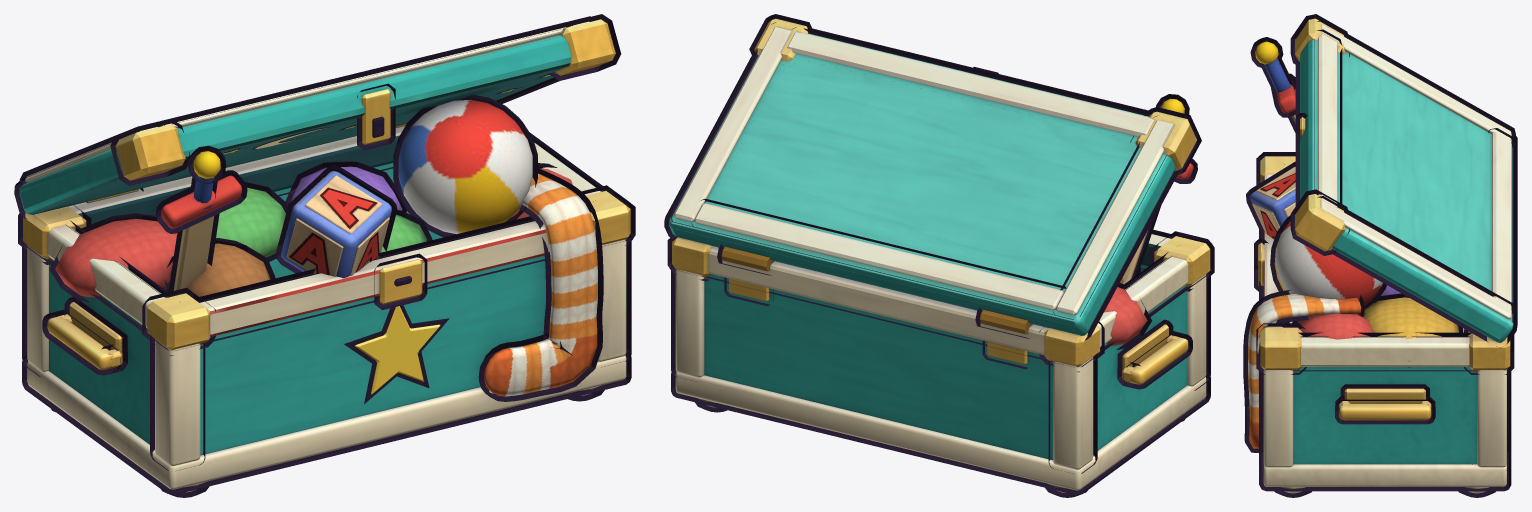
The model's file is ToyChest.glb.
The picture shows the model from 3 angles, left to right: view 1: azimuth 30°, elevation 25°; view 2: azimuth 150°, elevation 25°; view 3: azimuth 270°, elevation 25°; orthographic projection. The views are drawn at different scales.
Parts seen in each view (by area): view 1: ToyChest, ToyChest_Outline; view 2: ToyChest, ToyChest_Outline; view 3: ToyChest, ToyChest_Outline.
Part boxes in pixels (x1,y1,x2,y2): ToyChest: (19, 19, 630, 492); ToyChest_Outline: (14, 14, 635, 497); ToyChest: (669, 18, 1210, 492); ToyChest_Outline: (664, 14, 1214, 497); ToyChest: (1248, 18, 1513, 493); ToyChest_Outline: (1243, 14, 1517, 497).
Size of the model in its own units: 9.21 by 6.22 by 5.07.
2 materials, 2 textured.
